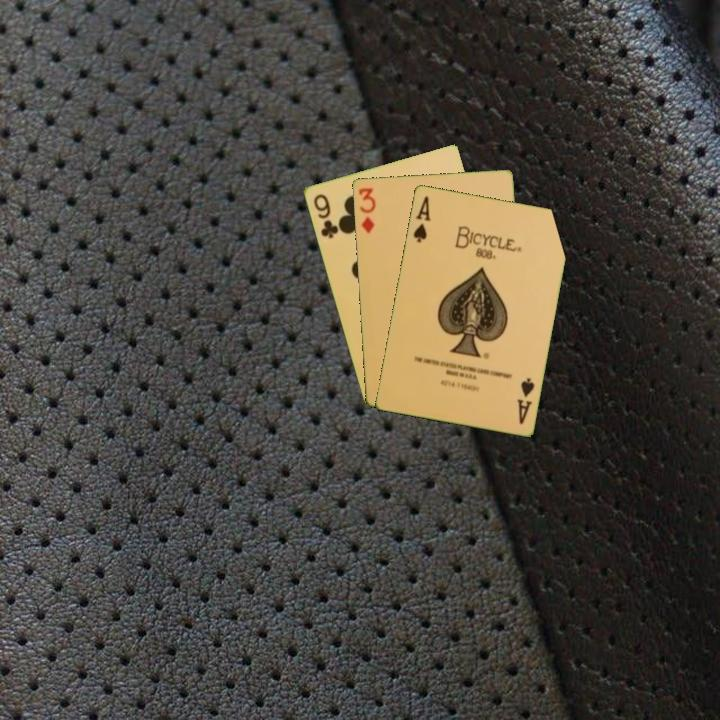3d: (355, 184, 378, 236)
9c: (309, 190, 341, 241)
As: (409, 192, 433, 245), (513, 374, 537, 427)
